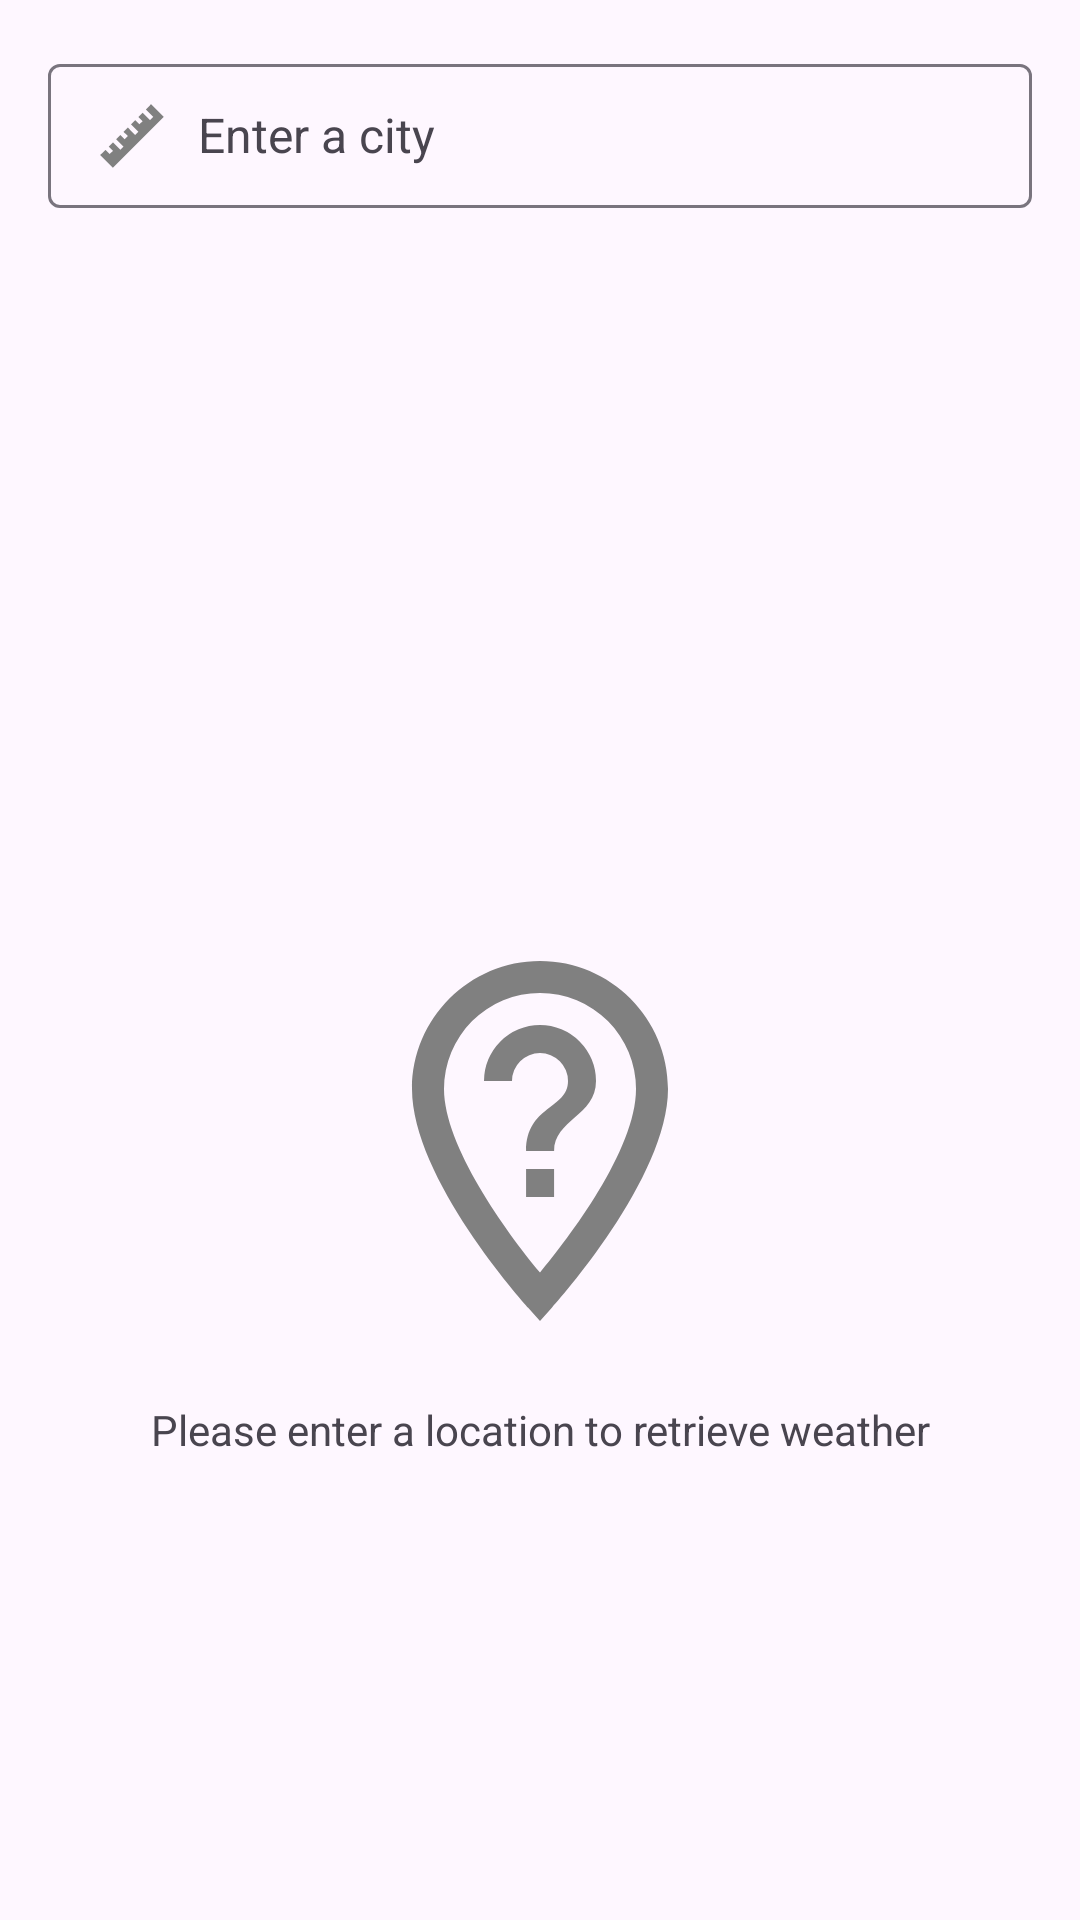

Icons on this 1080 x 1920 Android screen, each with its box as (x1, y1, x2, y2):
no location: (412, 961, 668, 1321)
